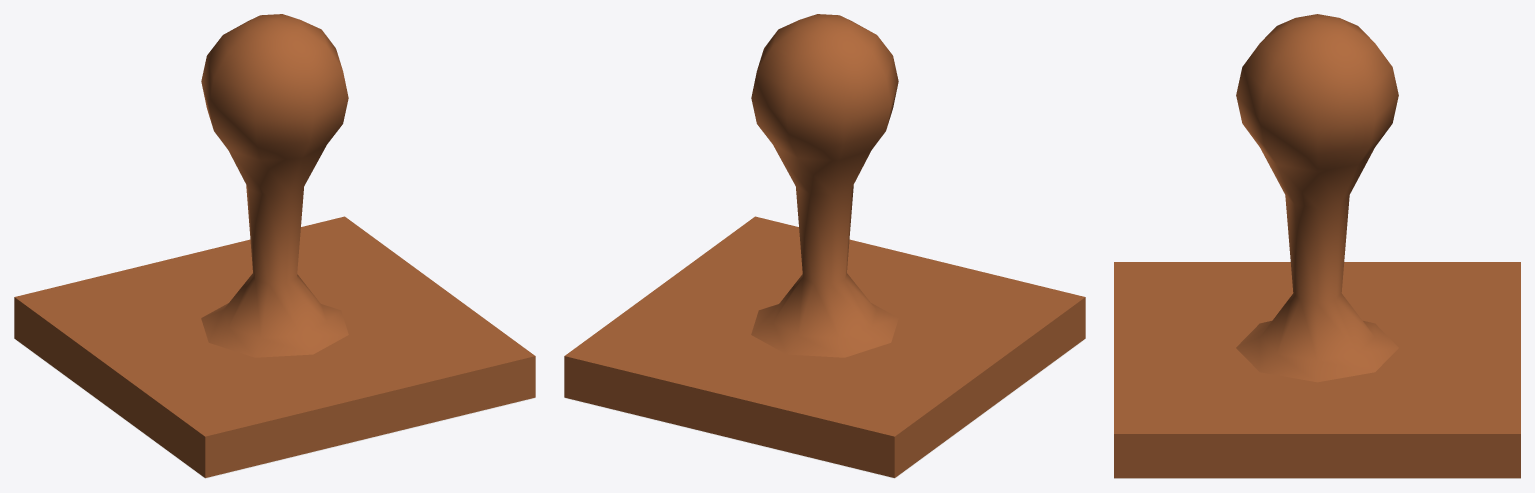
File: Stamp.fbx
The picture shows the model from 3 angles, left to right: view 1: azimuth 30°, elevation 25°; view 2: azimuth 150°, elevation 25°; view 3: azimuth 270°, elevation 25°; orthographic projection. The views are drawn at different scales.
Visible parts, largest first — view 1: Sphere; view 2: Sphere; view 3: Sphere.
Part boxes in pixels (x1,y1,x2,y2): Sphere: (14, 14, 535, 478); Sphere: (564, 14, 1085, 478); Sphere: (1114, 14, 1520, 478).
Bounding box in the file's own units: 8.97 × 9.04 × 8.97.
